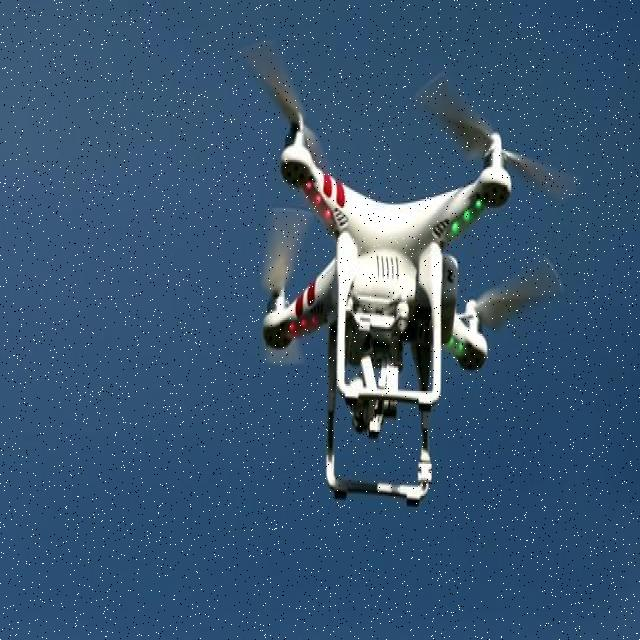UAV: (260, 110, 516, 508)
